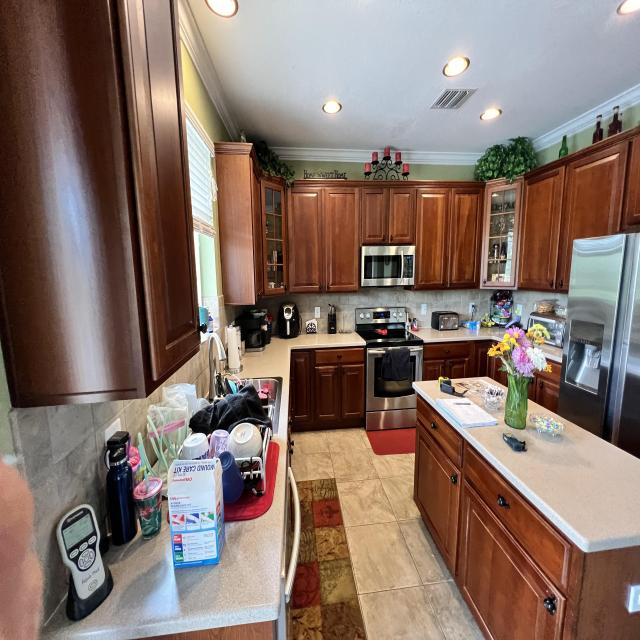Appliance_Dishwasher: (273, 474, 300, 640)
Appliance_Fridge: (559, 233, 640, 457)
Appliance_Microwave: (358, 243, 416, 288)
Appliance_Oven: (355, 307, 424, 432)
Cabinet_Glass: (482, 183, 522, 290), (260, 176, 289, 296)
Cabinet_Inset: (413, 398, 640, 640)
Cabinet_Raised_Panel: (116, 0, 200, 391), (285, 180, 489, 292), (517, 127, 640, 293), (213, 143, 265, 307), (289, 346, 366, 433), (423, 342, 504, 382)
Countertop_Granite: (44, 333, 368, 640), (411, 377, 640, 554), (411, 328, 503, 343), (541, 344, 554, 362)
